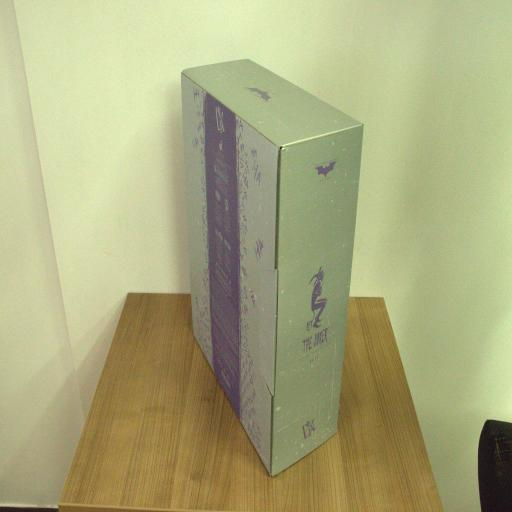Joker: (178, 55, 366, 479)
